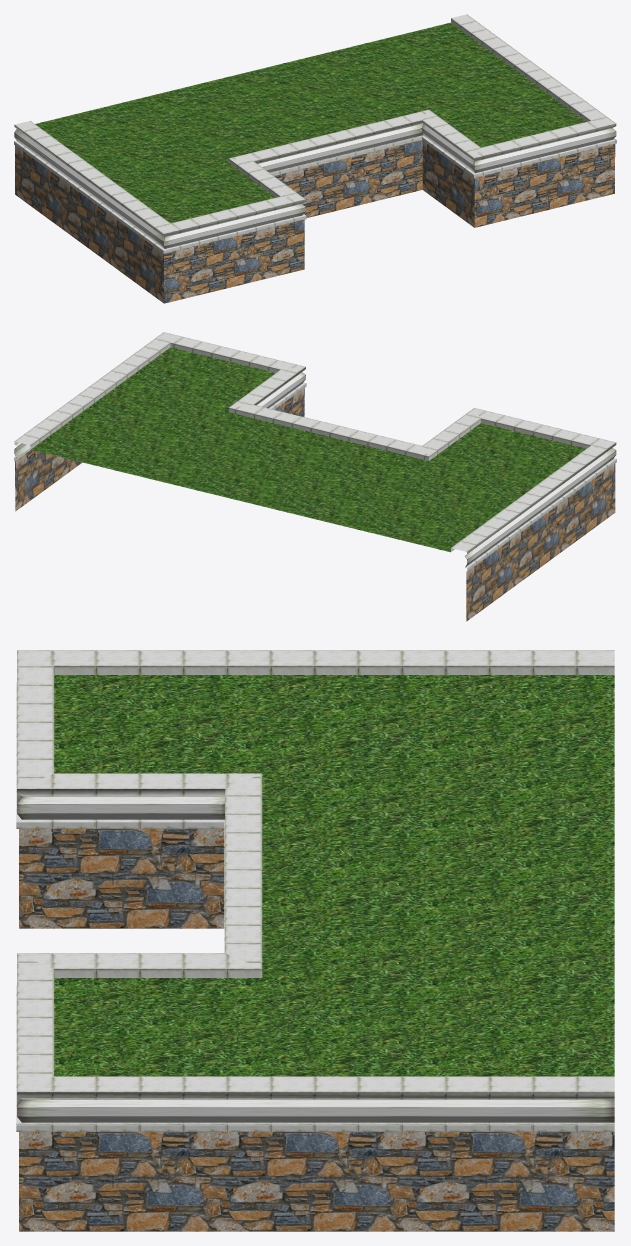
The model's file is UDC_ProminentGarden.obj.
The picture shows the model from 3 angles, top to bottom: view 1: azimuth 30°, elevation 25°; view 2: azimuth 150°, elevation 25°; view 3: azimuth 270°, elevation 25°; orthographic projection. The views are drawn at different scales.
Parts seen in each view (by area): view 1: UDC_ProminentGarden; view 2: UDC_ProminentGarden; view 3: UDC_ProminentGarden.
Part boxes in pixels (box(x1,y1,x2,y2)): UDC_ProminentGarden: box(14, 14, 616, 303); UDC_ProminentGarden: box(14, 332, 616, 621); UDC_ProminentGarden: box(16, 650, 614, 1231).
Size of the model in its own units: 2.21 by 0.3264 by 1.26.
3 materials, 3 textured.
